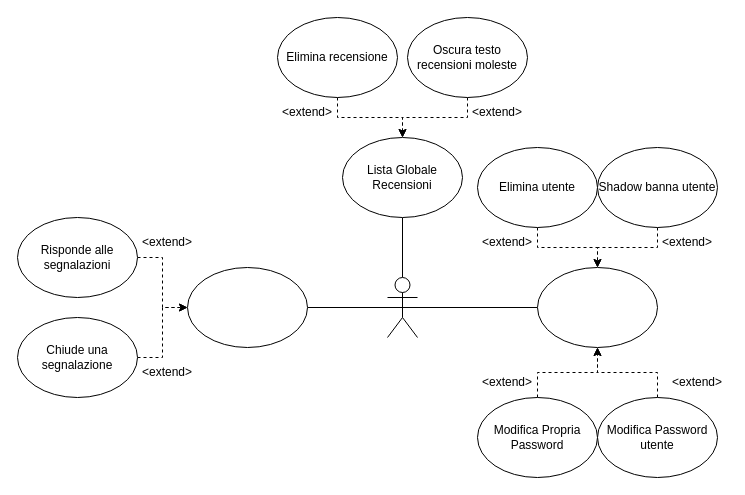
Image size: 745x495. Some labels were removed from this diagram. The box of each missing label's shape, as (x1, y1, x2, y2) in pixels:
Amministratore: (386, 276, 418, 338)
Lista utenti: (536, 266, 658, 348)
Pagina Segnalazioni: (186, 266, 308, 348)
